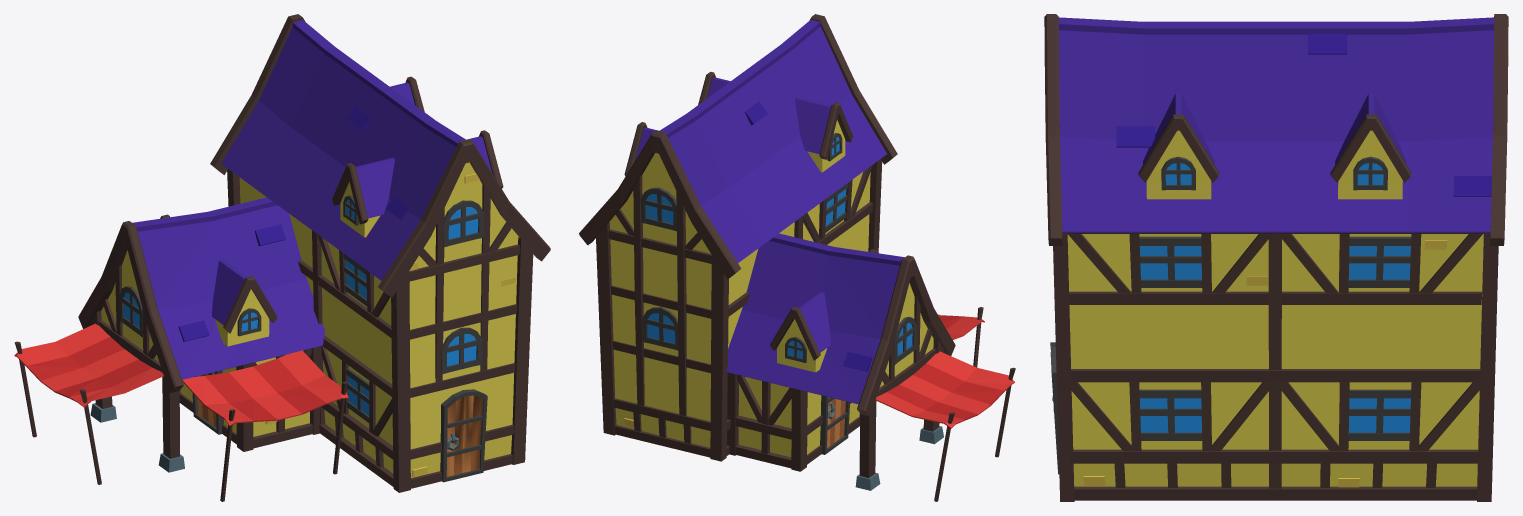
The model's file is House_3-4.fbx.
The picture shows the model from 3 angles, left to right: view 1: azimuth 30°, elevation 25°; view 2: azimuth 150°, elevation 25°; view 3: azimuth 270°, elevation 25°; orthographic projection. The views are drawn at different scales.
Visible parts, largest first — view 1: Town_BG_Bd_Store_A.004; view 2: Town_BG_Bd_Store_A.004; view 3: Town_BG_Bd_Store_A.004.
Part boxes in pixels (box(x1,y1,x2,y2)): Town_BG_Bd_Store_A.004: box(14, 14, 550, 501); Town_BG_Bd_Store_A.004: box(579, 14, 1015, 501); Town_BG_Bd_Store_A.004: box(1044, 14, 1508, 501).
Bounding box in the file's own units: 961 × 813 × 768.
